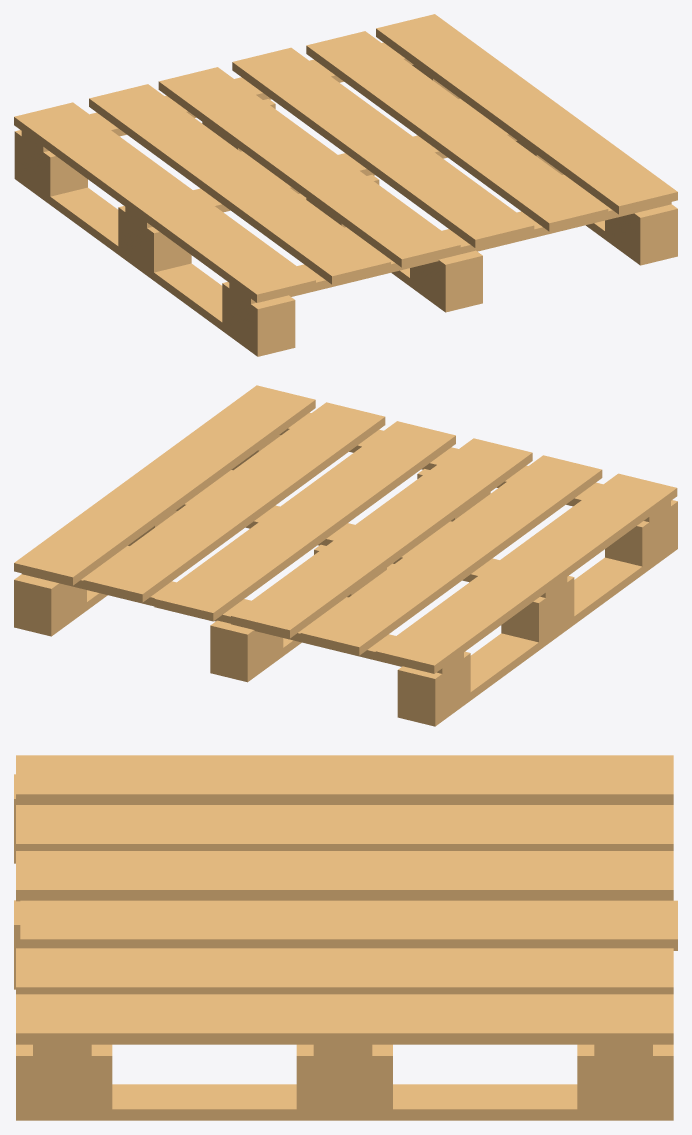
The model's file is pallet.glb.
3 renders of one model, top to bottom at view 1: azimuth 30°, elevation 25°; view 2: azimuth 150°, elevation 25°; view 3: azimuth 270°, elevation 25°, orthographic. The views are drawn at different scales.
Parts seen in each view (by area): view 1: Node; view 2: Node; view 3: Node.
Part boxes in pixels (x1,y1,x2,y2): Node: (14,14,677,356); Node: (14,385,677,726); Node: (14,755,677,1120).
Size of the model in its own units: 1.57 by 0.23 by 1.59.
